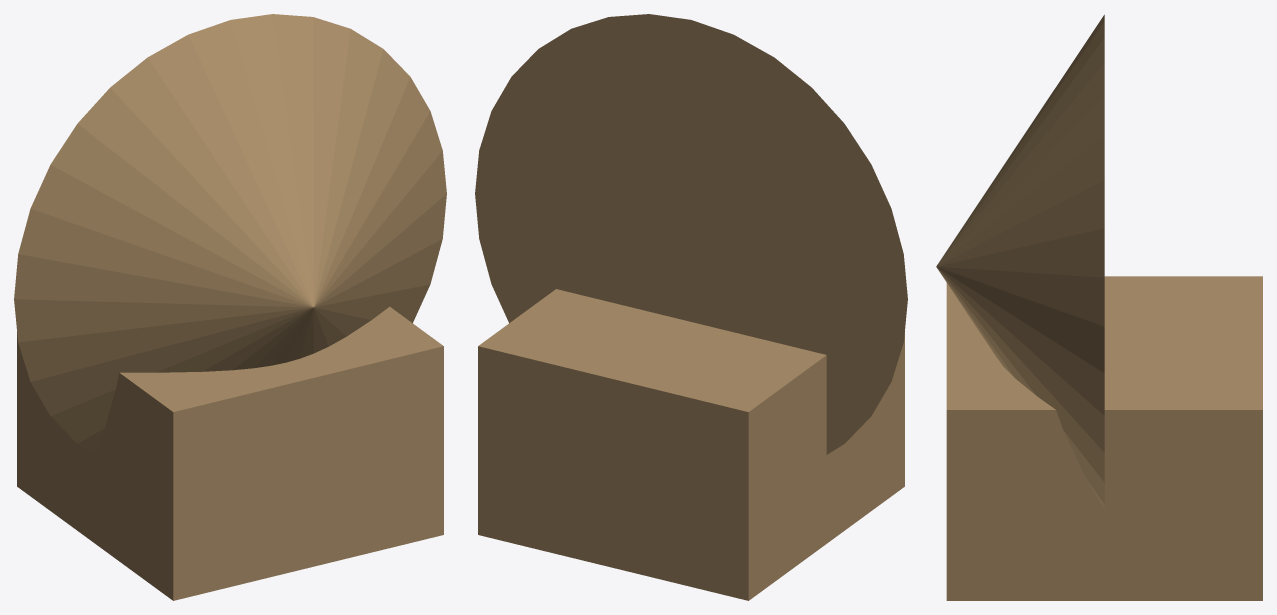
3 renders of one model, left to right at view 1: azimuth 30°, elevation 25°; view 2: azimuth 150°, elevation 25°; view 3: azimuth 270°, elevation 25°, orthographic.
Visible parts, largest first — view 1: world; view 2: world; view 3: world.
Boxes of the visible parts, bbox=[...] form: world: bbox=[14, 14, 446, 600]; world: bbox=[475, 14, 907, 600]; world: bbox=[936, 14, 1262, 600].
Bounding box in the file's own units: 2.4 × 2.6 × 1.55.
